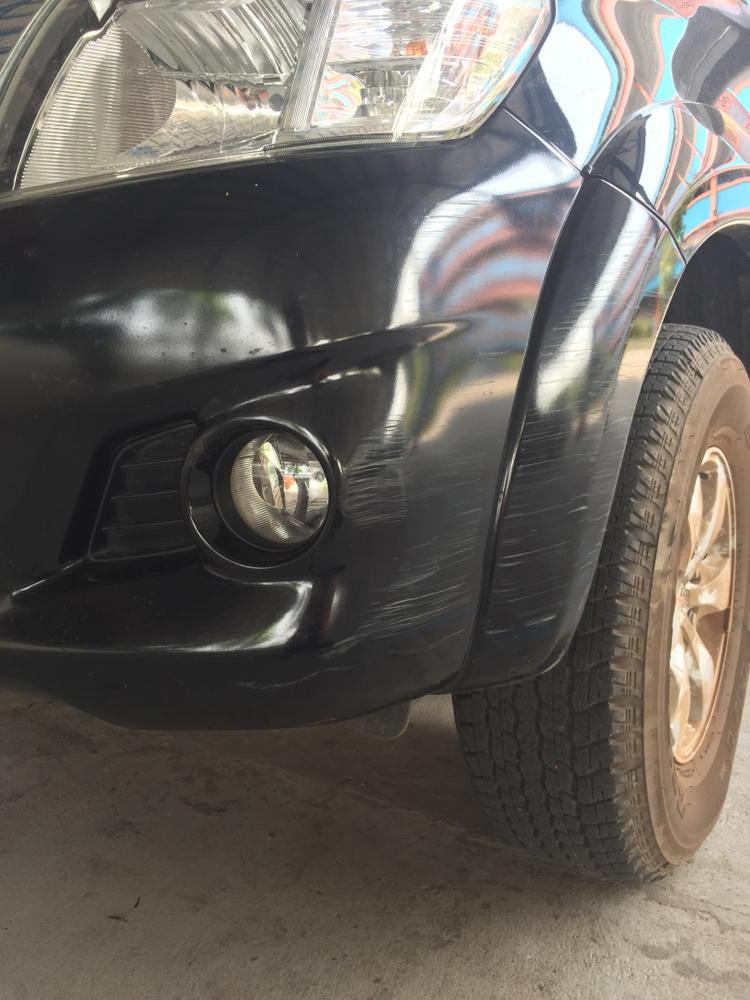scratch: (251, 337, 521, 689), (487, 224, 663, 639)
